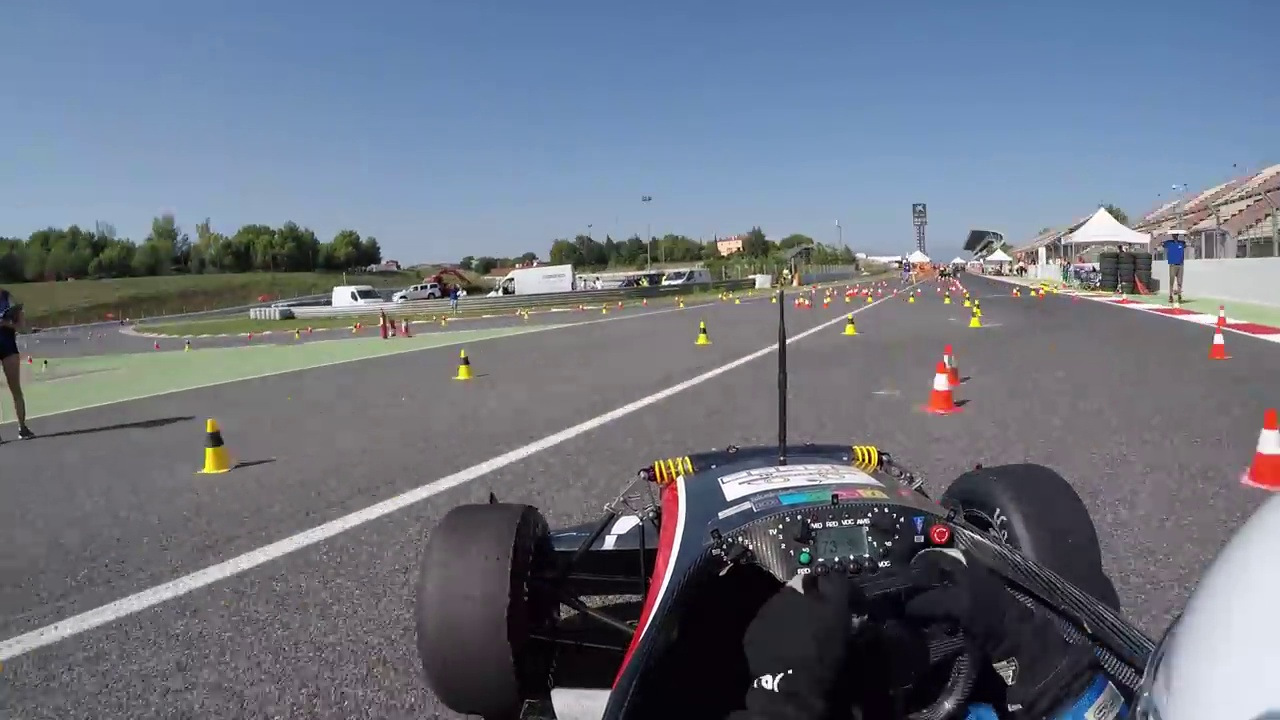Cone: (1240, 404, 1280, 493), (198, 416, 235, 476), (925, 358, 962, 413), (1207, 322, 1230, 361), (454, 345, 476, 380), (694, 320, 717, 347)
